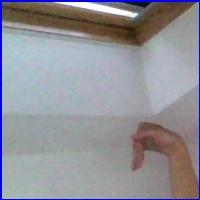del: (127, 118, 184, 177)
